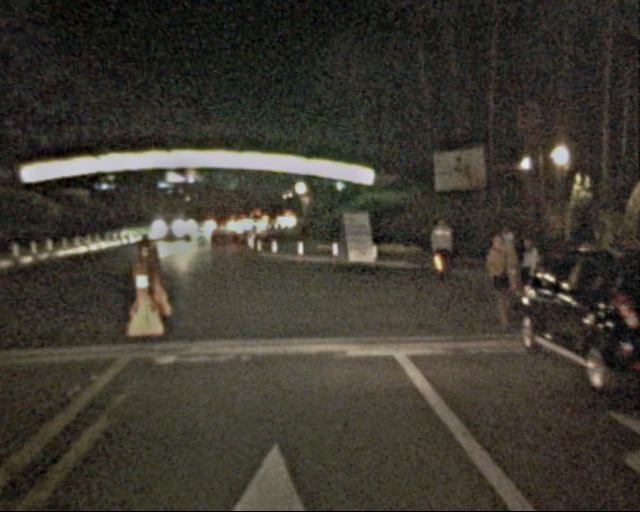person: (481, 234, 520, 328), (512, 237, 545, 320), (427, 217, 458, 285)
